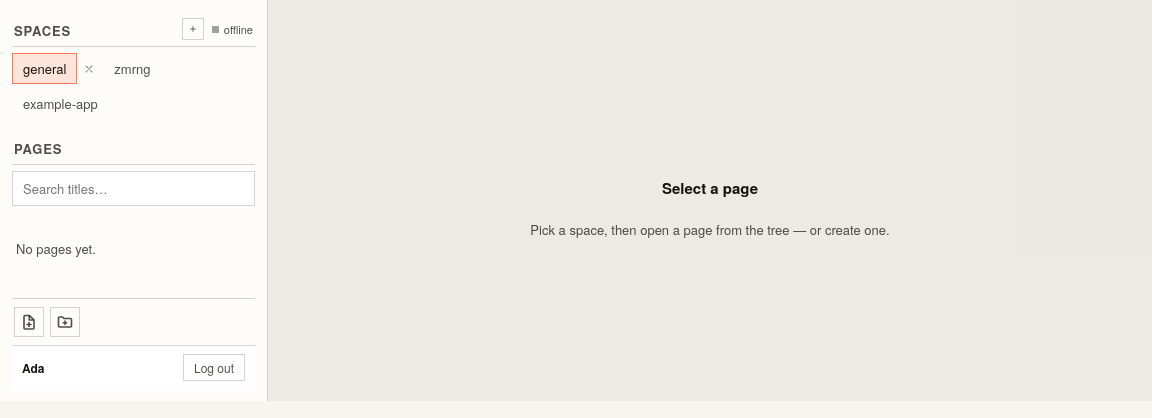
Scenario: <KbView> spaces — create/delete affordances › creates a space from the prompt and adds it to the switcher
Check: the button "general" is shown, box [12,53,77,84]
Click the button named "New space" at (193, 29), box [182,18,204,40]
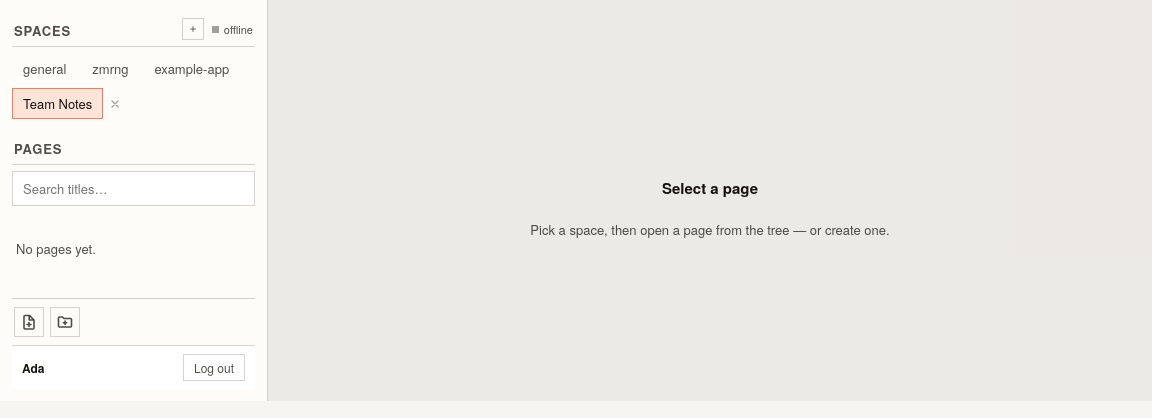
Check: the button "Team Notes" is shown, box [12,88,103,119]
